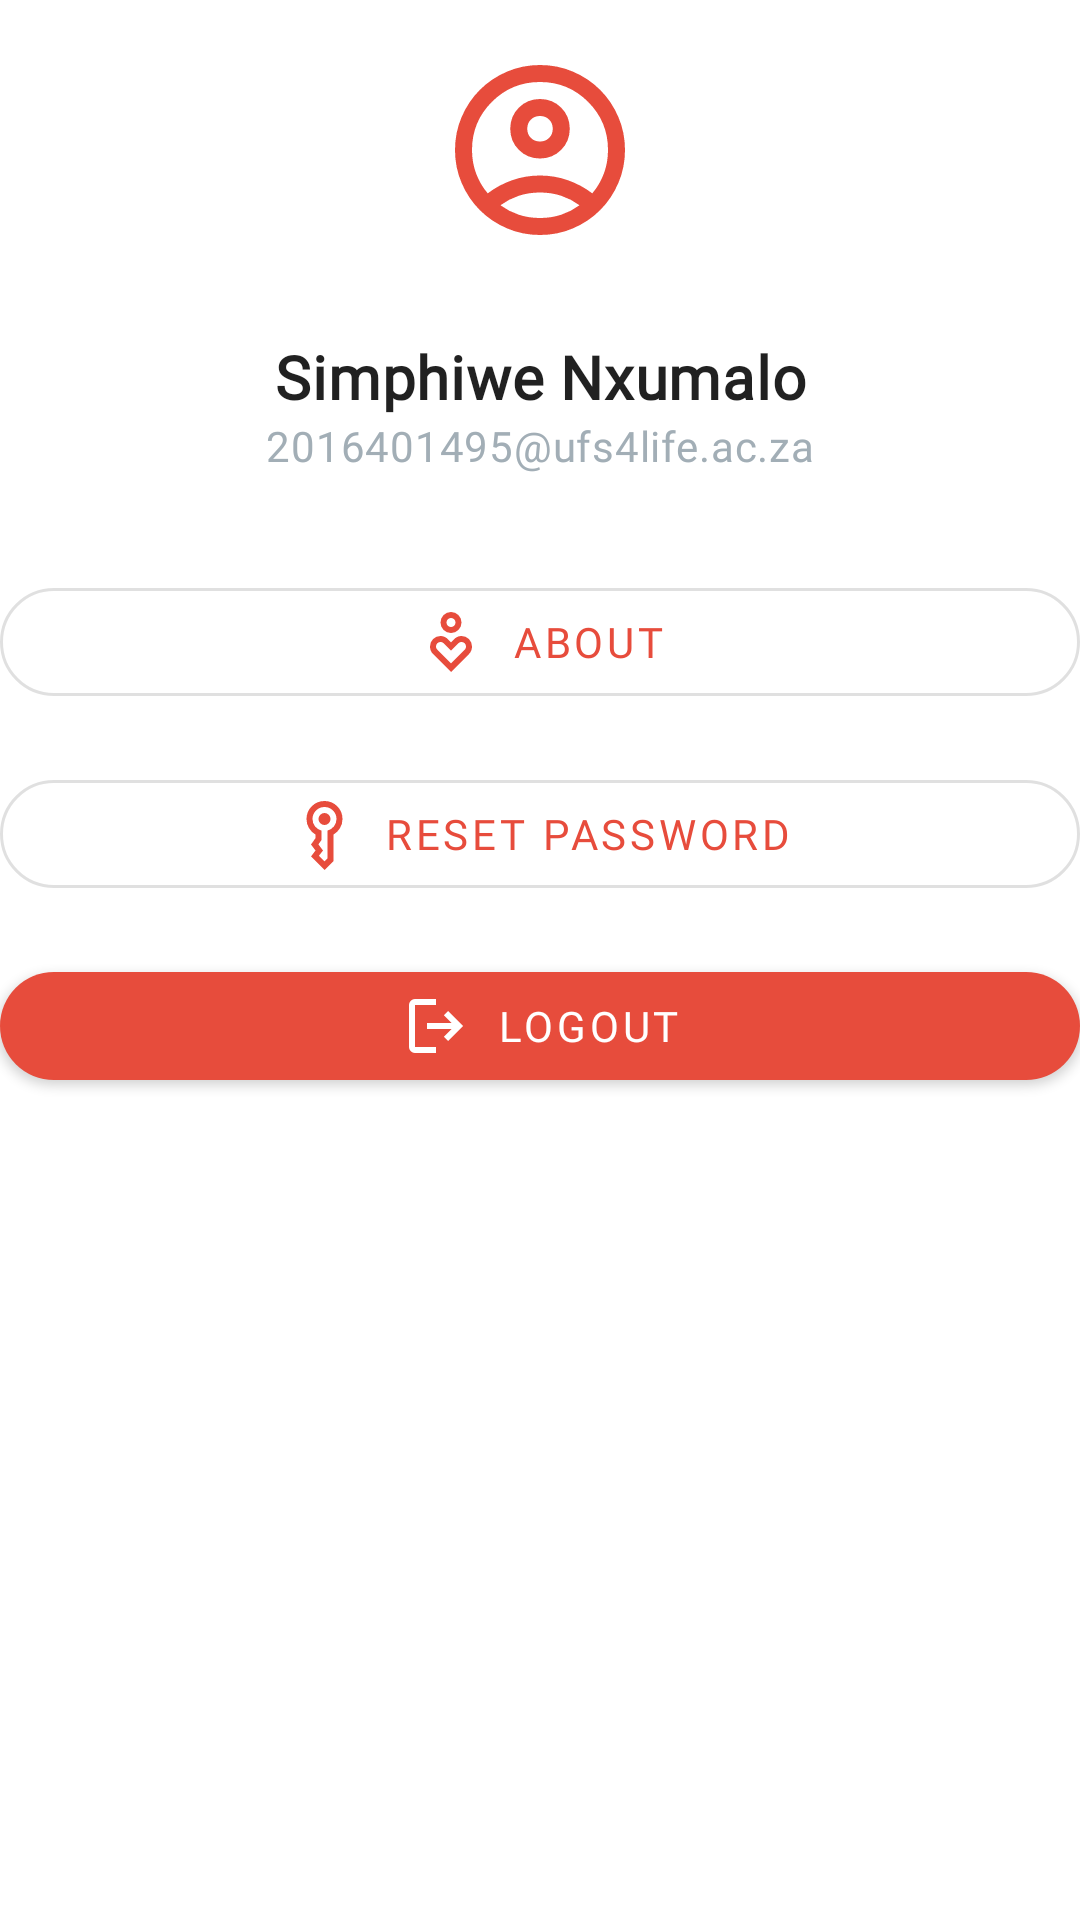

Icon bounding boxes for this 1080px×1920px phone screenshot, format (x1, y1, x2, y2):
account circle: (455, 65, 625, 235)
